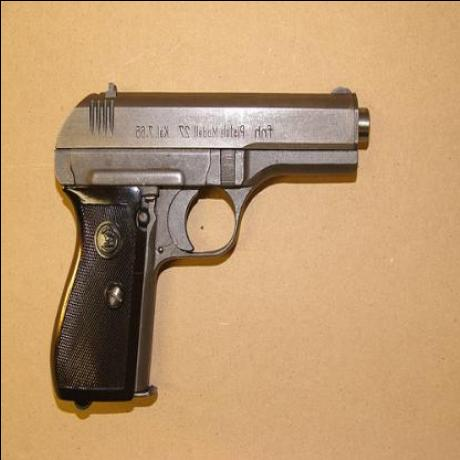weapon: (44, 71, 379, 418)
